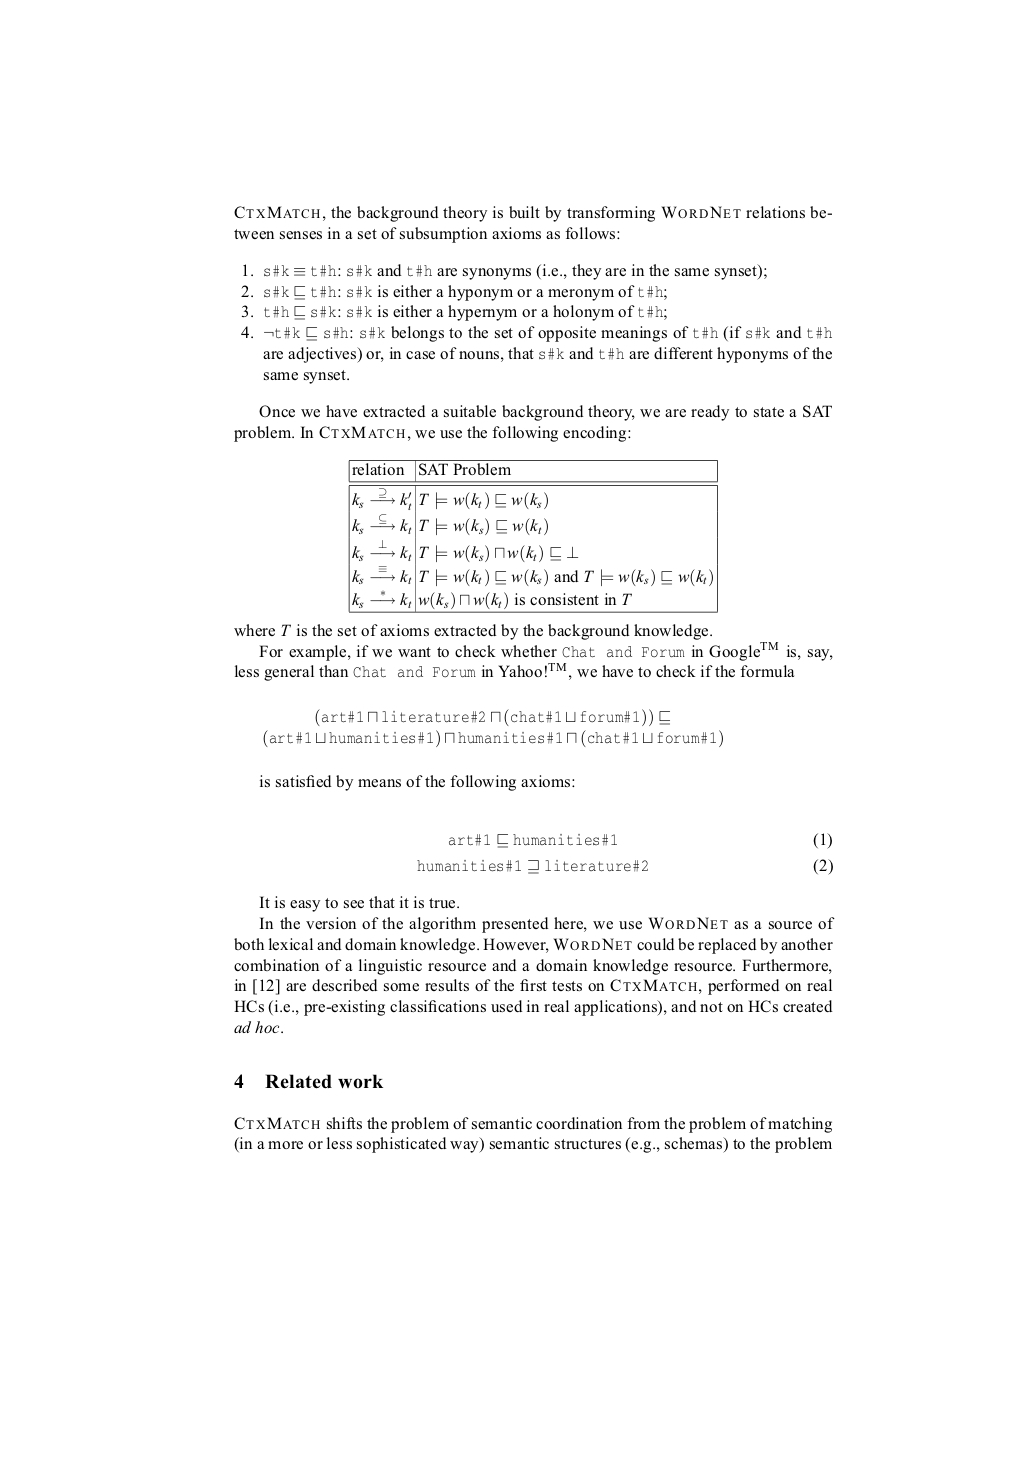Table: (348, 458, 717, 613)
formula: (263, 729, 722, 748), (417, 858, 832, 875), (315, 708, 669, 727), (449, 832, 831, 849)
